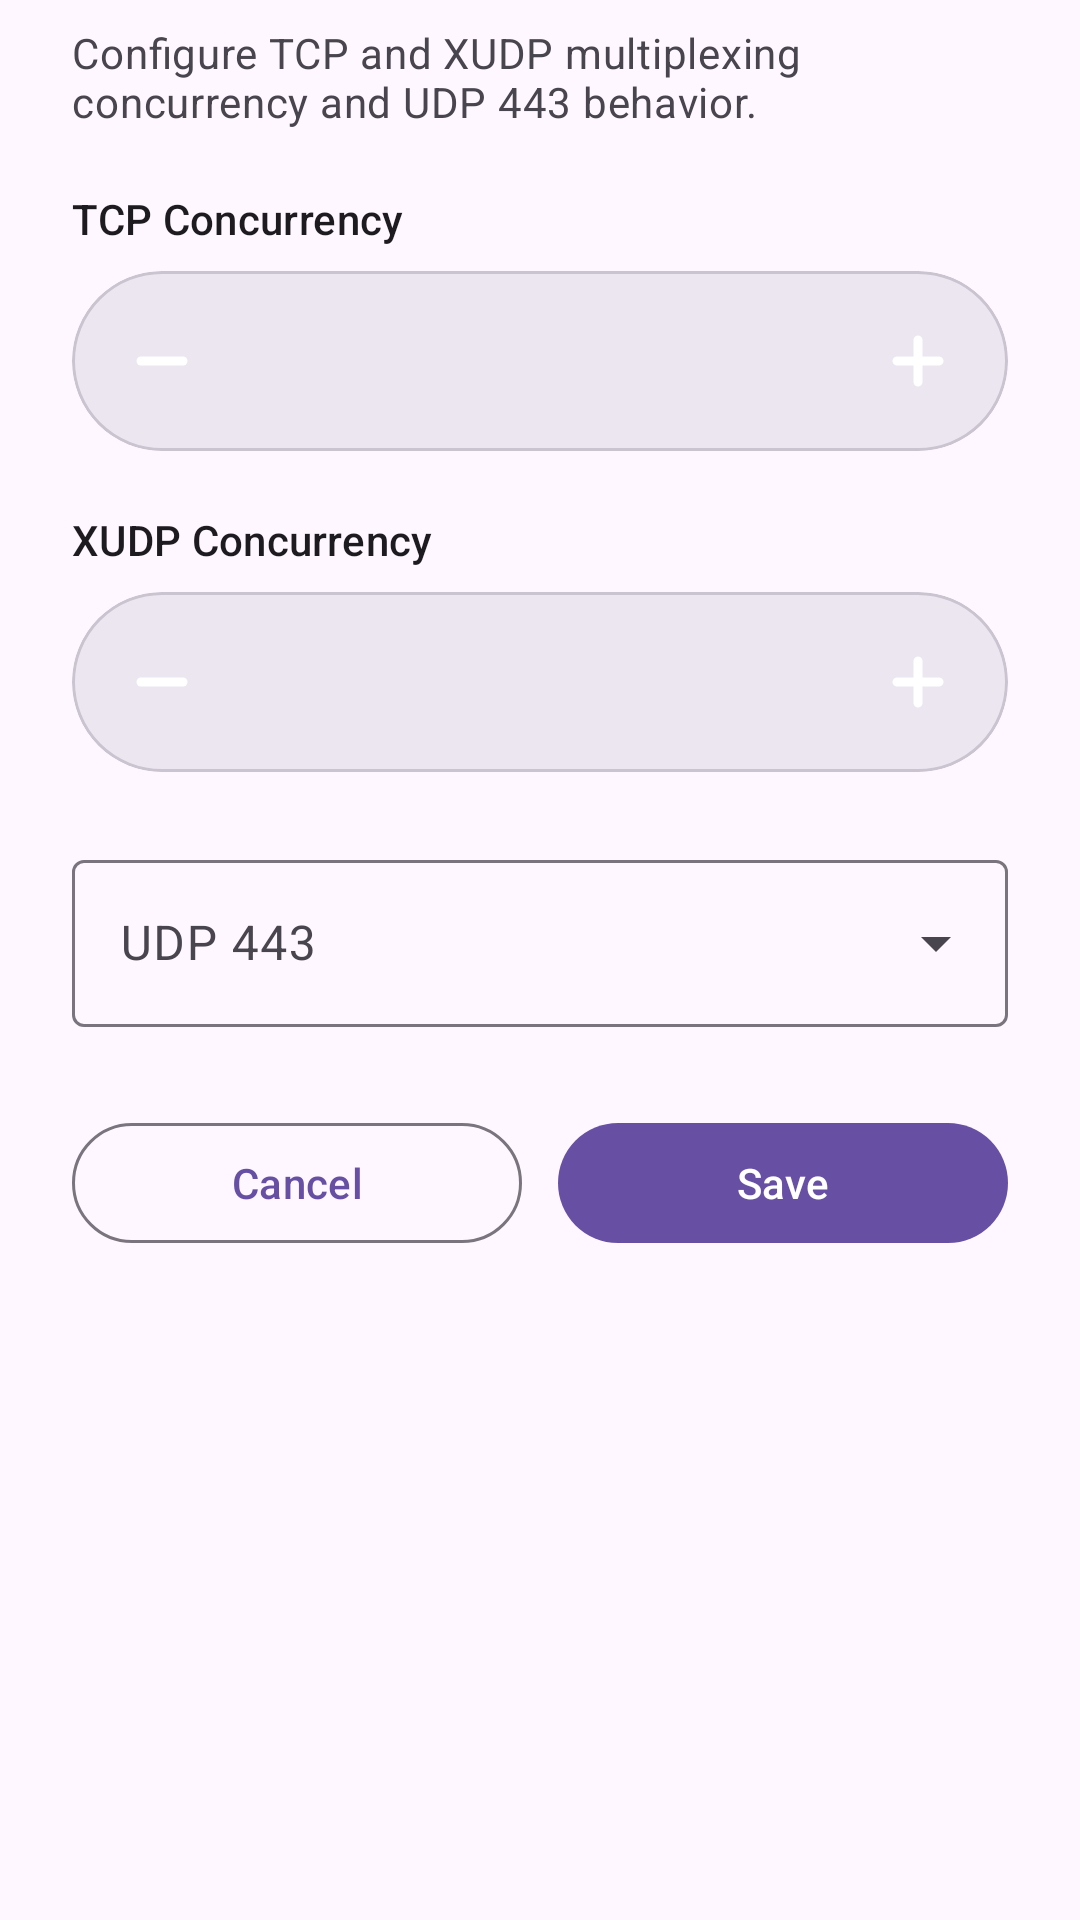

Locate icon controls on the screen. Image size 1080*1920, boxes as (x1, y1, x2, y2).
Tambah: (893, 336, 943, 386), (893, 657, 943, 707)
